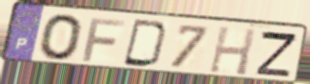7: (169, 23, 211, 71)
D: (121, 18, 171, 69)
F: (80, 16, 128, 63)
H: (207, 25, 259, 78)
O: (37, 13, 85, 63)
Z: (254, 29, 299, 79)
